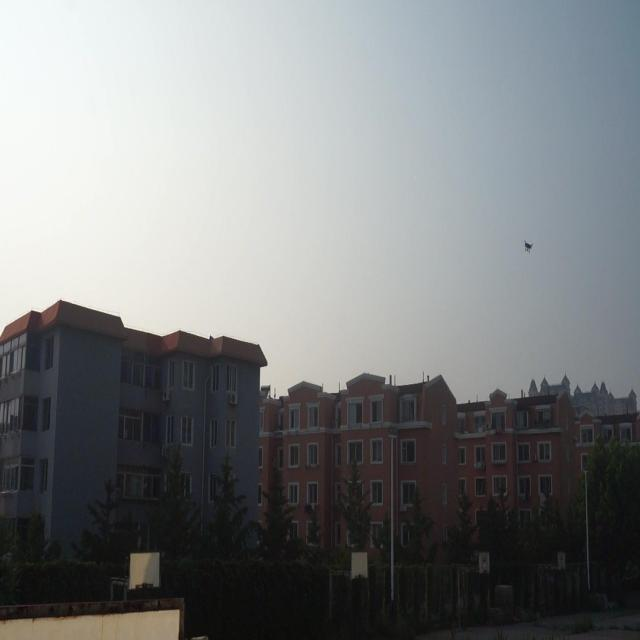UAV: (524, 240, 534, 254)
